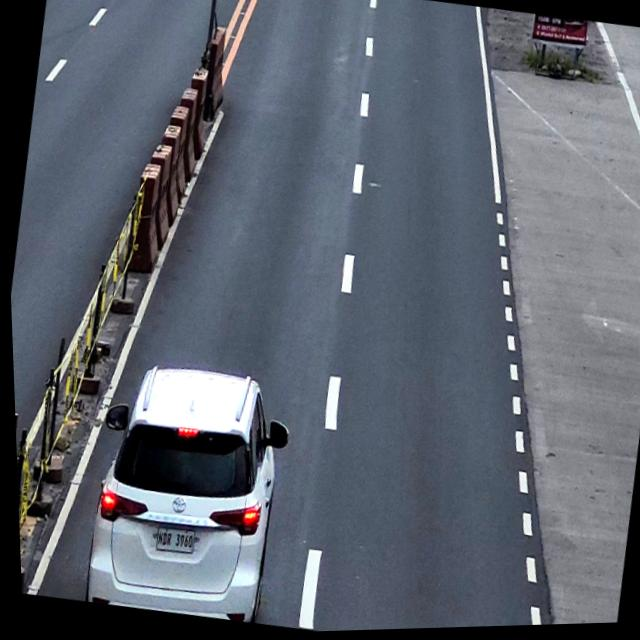Car: (71, 351, 300, 631)
License-Plate: (149, 526, 194, 559)
